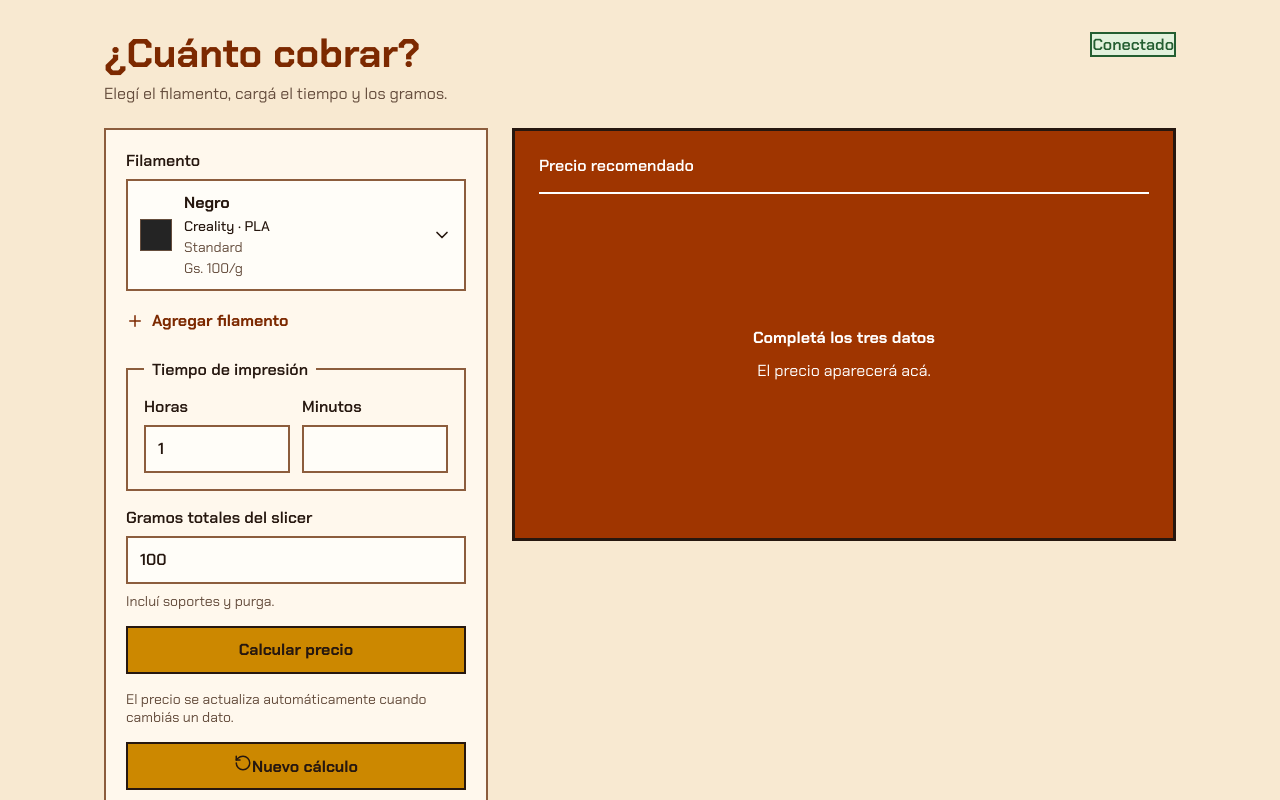
it: closes the choices when the connection is lost and keeps the selected roll
Click the button with aria-label "Filamento": (156, 235) [126,179,466,291]
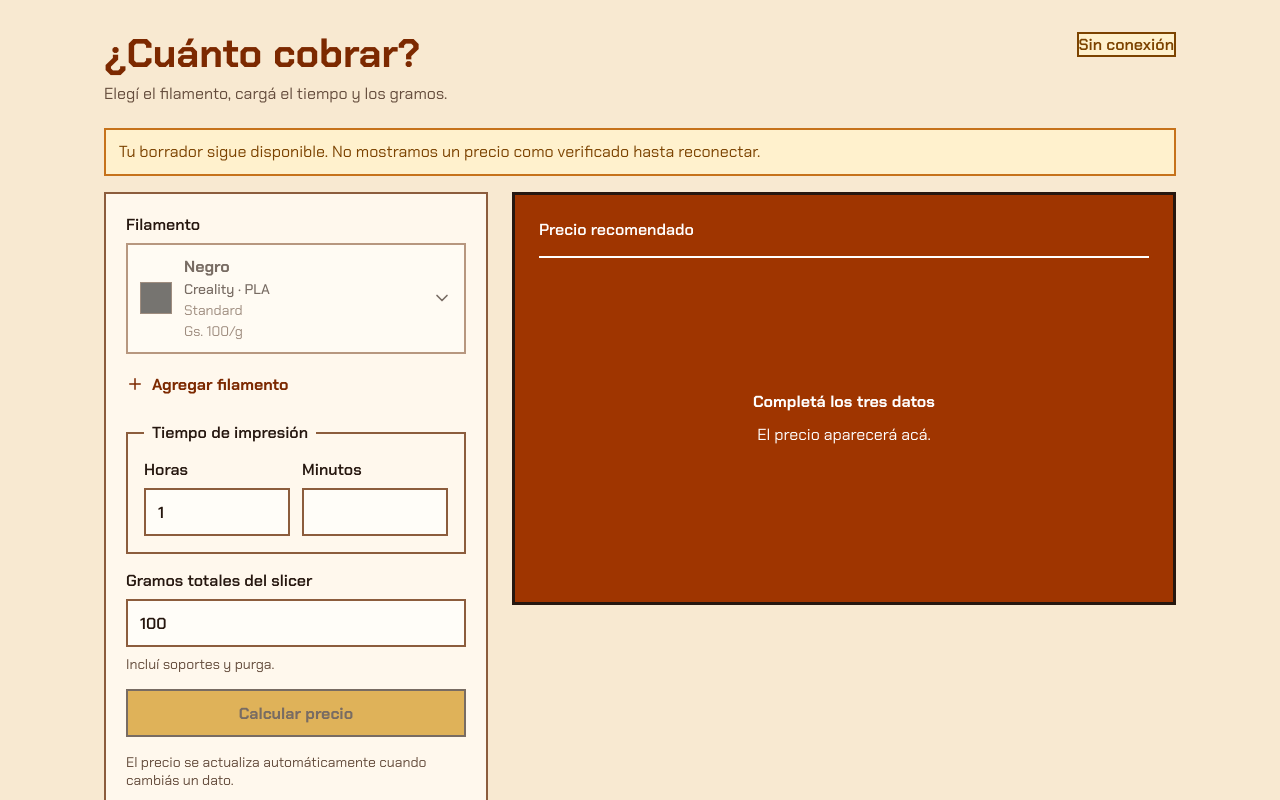
Expected: the button with aria-label "Filamento" shows "Negro", [126,243,466,354]
Result: the button with aria-label "Filamento" is disabled at [126,243,466,354]
